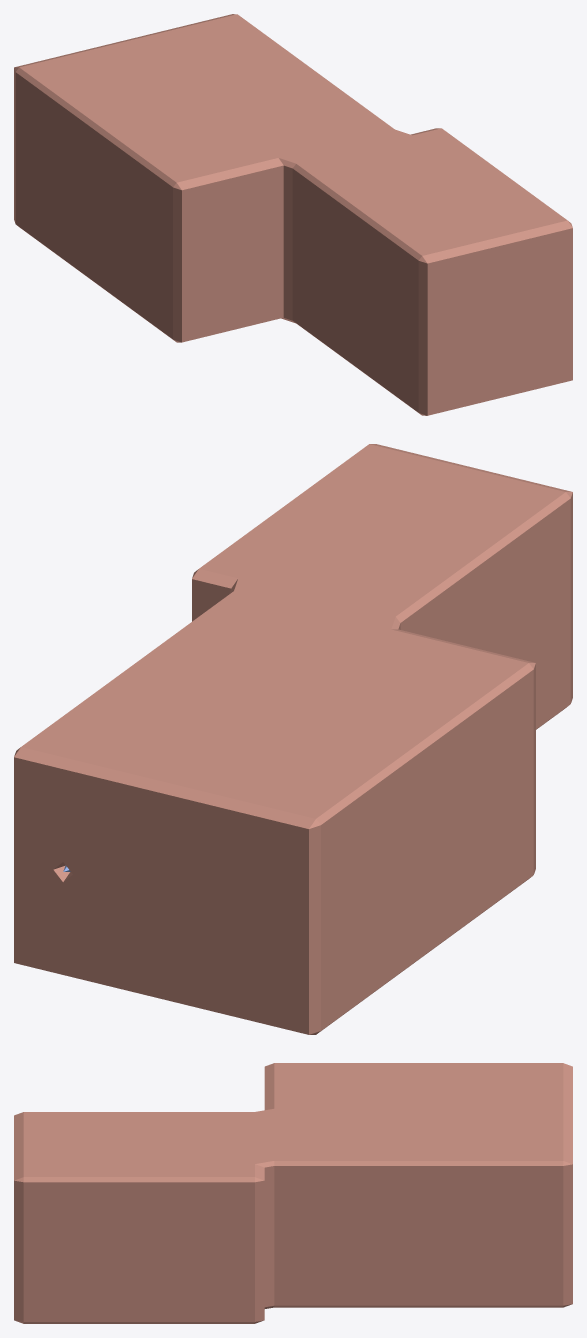
The model's file is model.orig.glb.
The picture shows the model from 3 angles, top to bottom: view 1: azimuth 30°, elevation 25°; view 2: azimuth 150°, elevation 25°; view 3: azimuth 270°, elevation 25°; orthographic projection. The views are drawn at different scales.
Visible parts, largest first — view 1: liver; view 2: liver; view 3: liver.
Boxes of the visible parts, <box> form: liver: <box>14,14,572,415</box>; liver: <box>14,444,572,1034</box>; liver: <box>14,1063,572,1323</box>.
Bounding box in the file's own units: 28.8 × 16.8 × 58.
